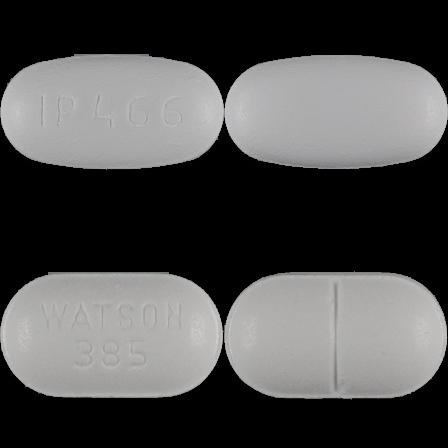68387-210: (0, 0, 224, 224)
